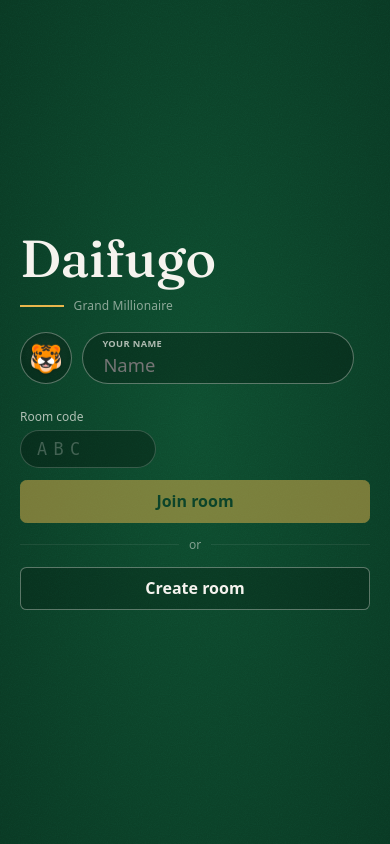
it: Lobby › holds the deal for a queued join, and says who it is waiting on
The image size is (390, 844).
Type "Will" into the field labelled "Your name".
click(218, 358); type("Will")  # box 82,332 -> 354,384
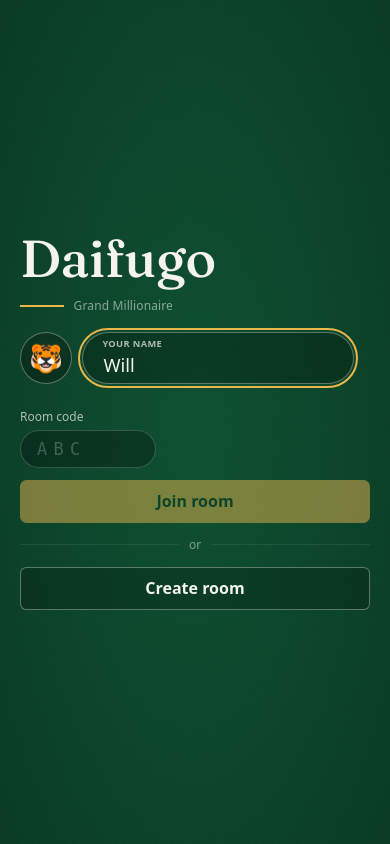
Type "ABC234" into the field labelled "Room code".
click(88, 449); type("ABC234")  # box 20,430 -> 156,468
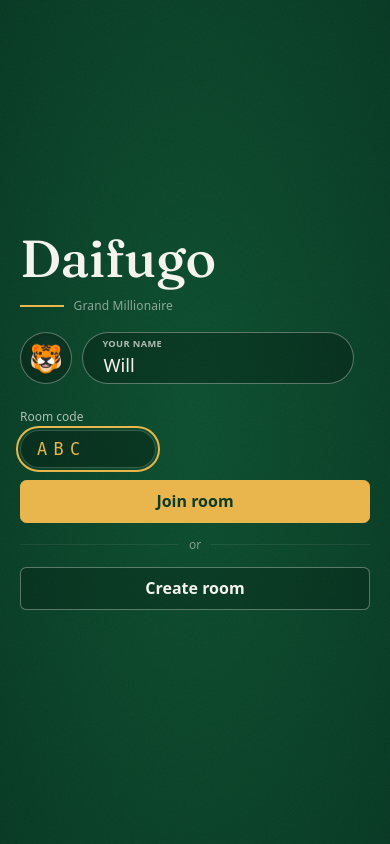
Click the button "Join room".
click(195, 501)  # box 20,480 -> 370,523
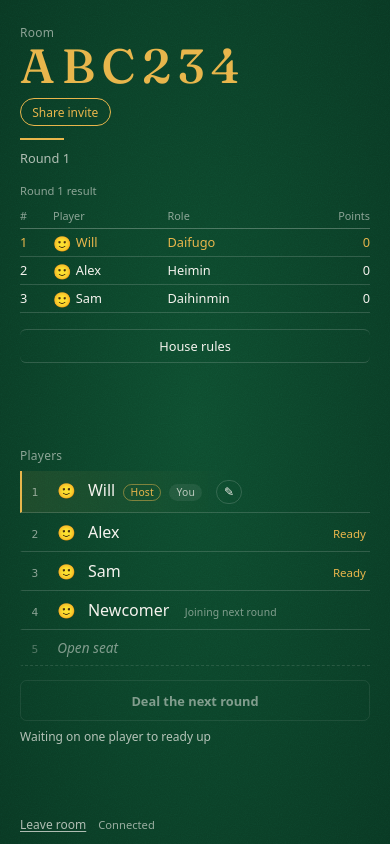
Now the button "Deal the next round" is disabled, box 20,680 -> 370,721
Now the text "Waiting on one player to ready up" is shown, box 20,728 -> 211,745
Now the text "Newcomer" is shown, box 88,599 -> 169,621
